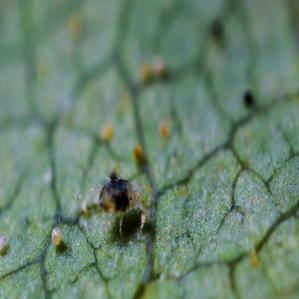spider mite: (79, 166, 162, 234)
